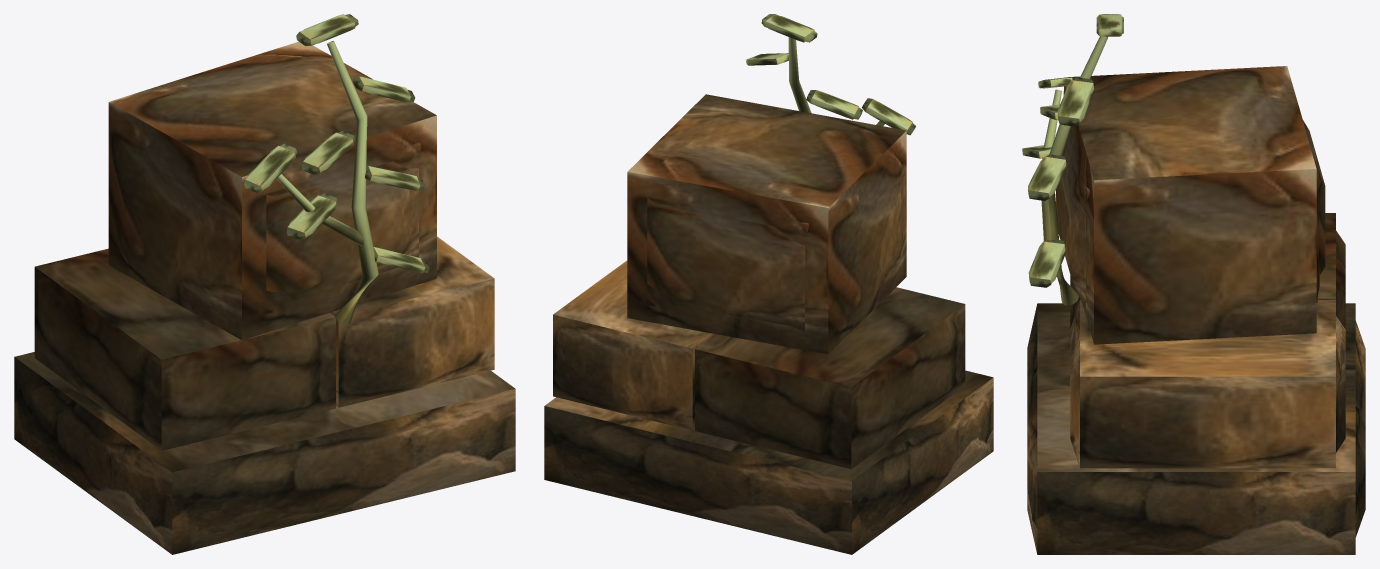
The model's file is living-cornerstone.glb.
3 renders of one model, left to right at view 1: azimuth 30°, elevation 25°; view 2: azimuth 150°, elevation 25°; view 3: azimuth 270°, elevation 25°, orthographic. The views are drawn at different scales.
Parts seen in each view (by area): view 1: HeroRelicMonument; view 2: HeroRelicMonument; view 3: HeroRelicMonument.
Boxes of the visible parts, x1,y1,x2,y2 form: HeroRelicMonument: (14, 14, 515, 554); HeroRelicMonument: (544, 14, 993, 554); HeroRelicMonument: (1022, 14, 1365, 554).
Bounding box in the file's own units: 1.48 × 1.79 × 1.2.
Materials: 1 (1 with a texture image).
